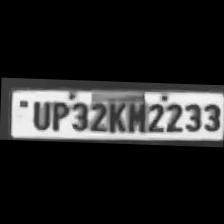2: (144, 98, 164, 133), (162, 99, 182, 133), (88, 97, 106, 132)
3: (199, 99, 221, 132), (68, 98, 88, 132), (181, 100, 201, 132)
K: (105, 97, 125, 133)
M: (125, 96, 144, 134)
P: (48, 97, 68, 130)
U: (28, 97, 50, 130)
